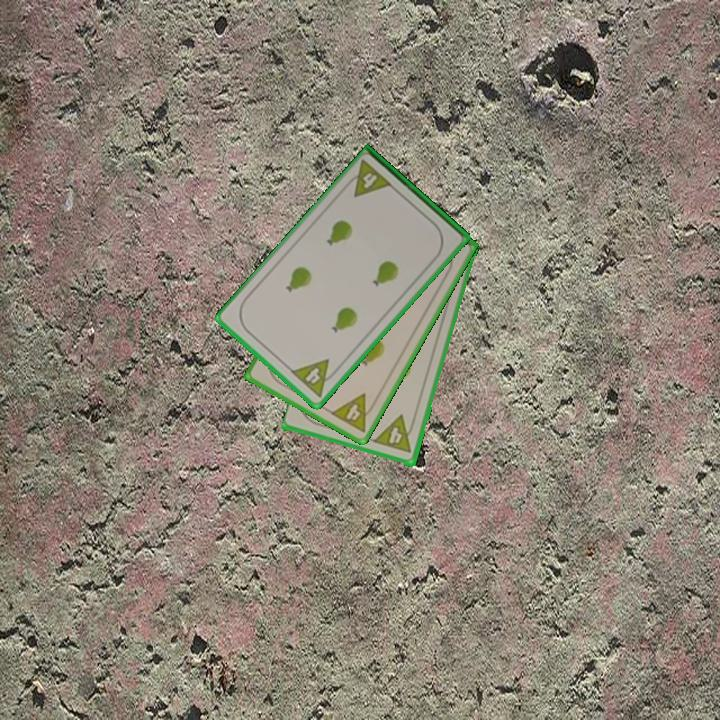4p: (327, 390, 380, 436), (287, 356, 342, 400), (341, 157, 395, 200), (371, 412, 418, 456)
